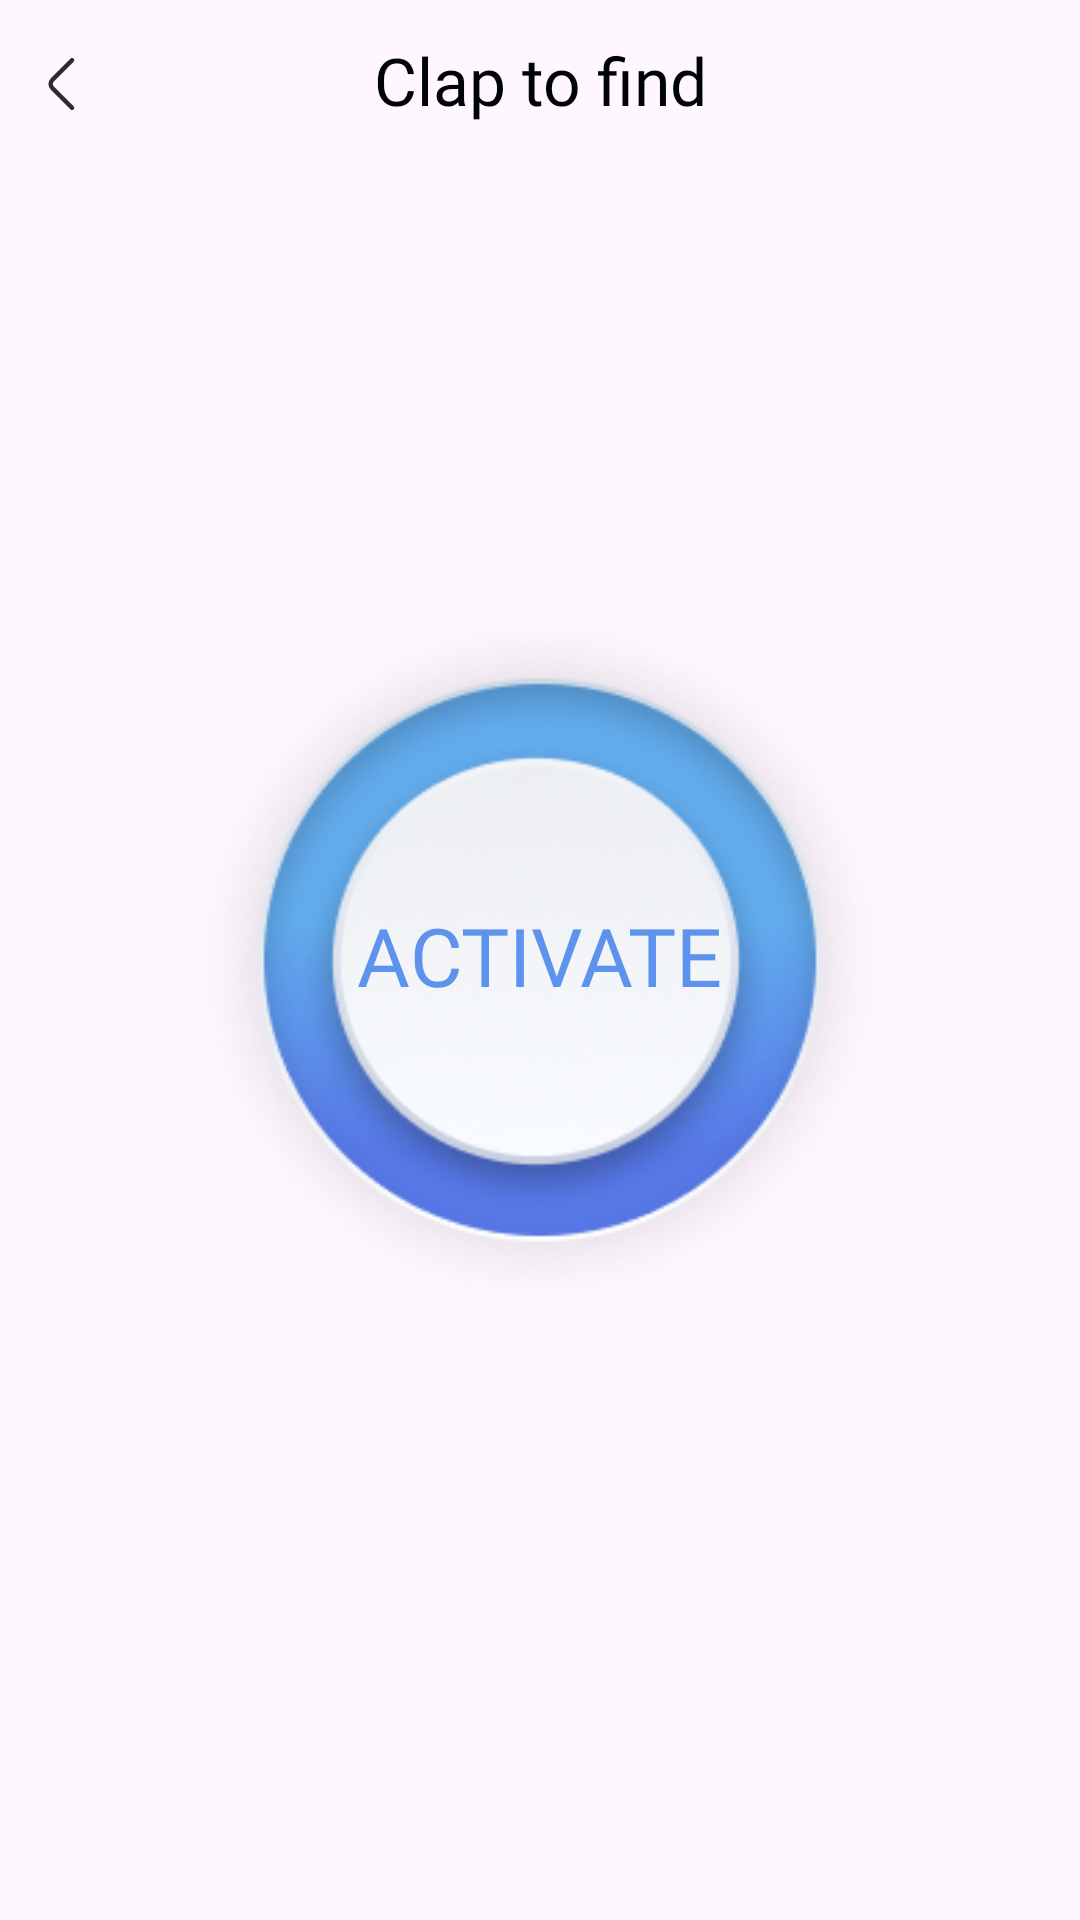

Screen size 1080x1920. Icon name, then its box in pixels as (x1, y1, x2, y2):
back: (48, 58, 75, 110)
